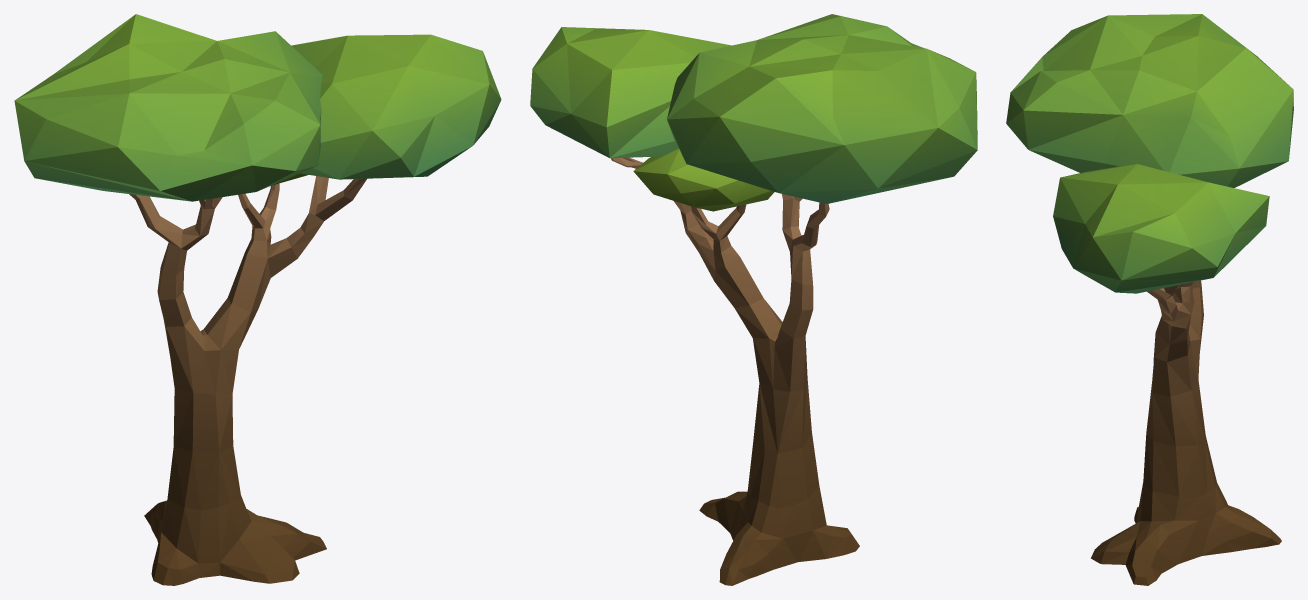
The model's file is ZLP_Plant_B_3.FBX.
The picture shows the model from 3 angles, left to right: view 1: azimuth 30°, elevation 25°; view 2: azimuth 150°, elevation 25°; view 3: azimuth 270°, elevation 25°; orthographic projection. The views are drawn at different scales.
Visible parts, largest first — view 1: ZLP_Plant_B_3; view 2: ZLP_Plant_B_3; view 3: ZLP_Plant_B_3.
Part boxes in pixels (x1=…): ZLP_Plant_B_3: x1=14, y1=14, x2=501, y2=585; ZLP_Plant_B_3: x1=530, y1=14, x2=977, y2=585; ZLP_Plant_B_3: x1=1006, y1=14, x2=1293, y2=585.
Bounding box in the file's own units: 389 × 423 × 231.
